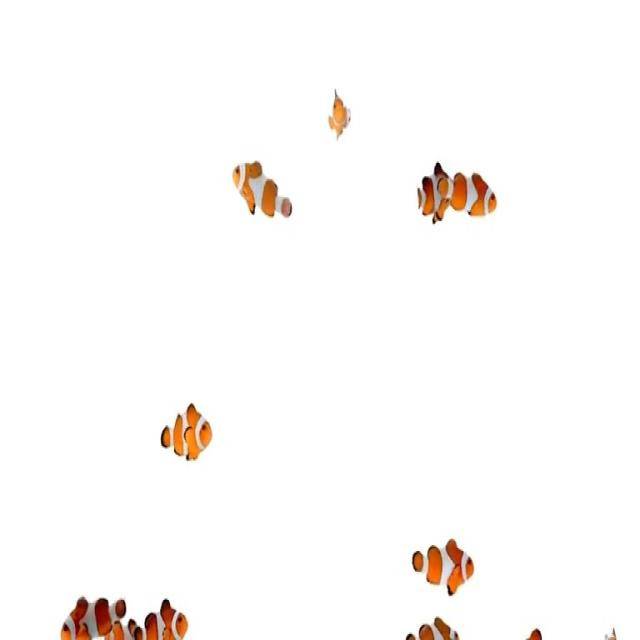fish: (158, 392, 222, 463), (230, 151, 294, 220), (410, 536, 478, 597), (440, 171, 500, 221), (61, 599, 131, 640), (138, 595, 189, 640), (414, 166, 452, 225), (327, 85, 352, 150), (406, 619, 460, 640)
